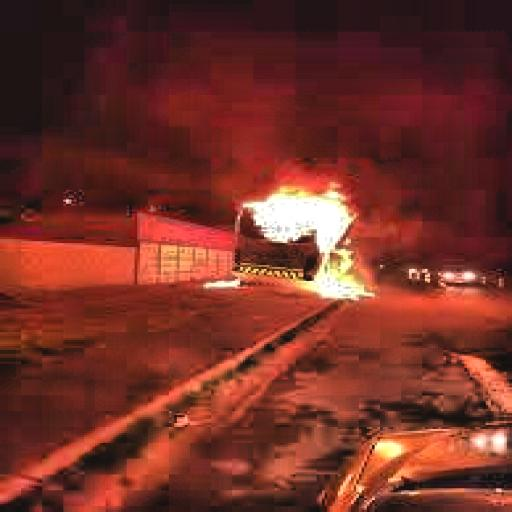fire: (211, 168, 383, 304)
